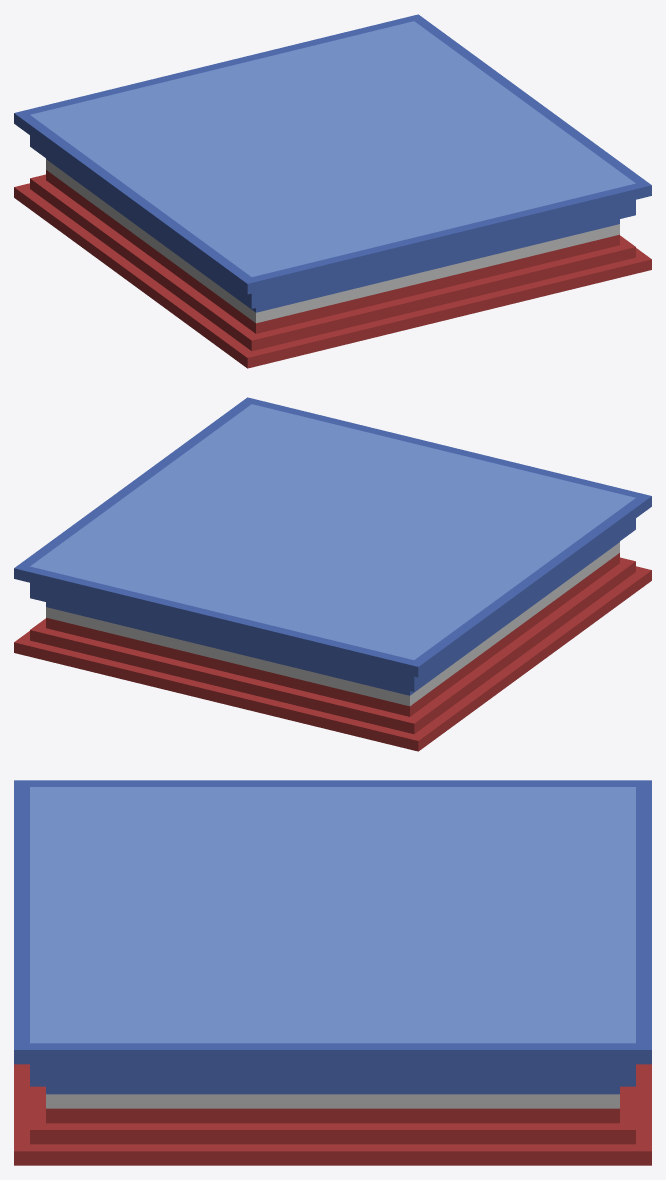
The model's file is building_top.obj.
The picture shows the model from 3 angles, top to bottom: view 1: azimuth 30°, elevation 25°; view 2: azimuth 150°, elevation 25°; view 3: azimuth 270°, elevation 25°; orthographic projection. The views are drawn at different scales.
Bounding box in the file's own units: 4 × 0.8 × 4.
Materials: 1 (1 with a texture image).
